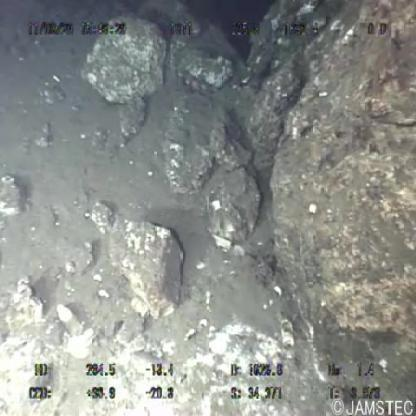Rác: (57, 304, 84, 340)
